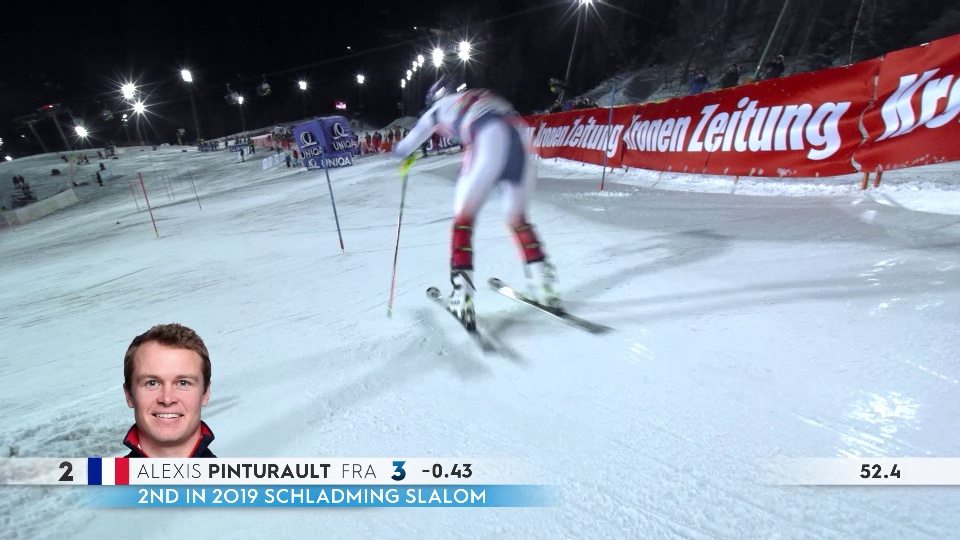kronenzeitung: (609, 90, 862, 176), (626, 107, 850, 176), (526, 118, 618, 163)
uniqa: (324, 121, 354, 154), (304, 156, 355, 173), (297, 129, 321, 155)
